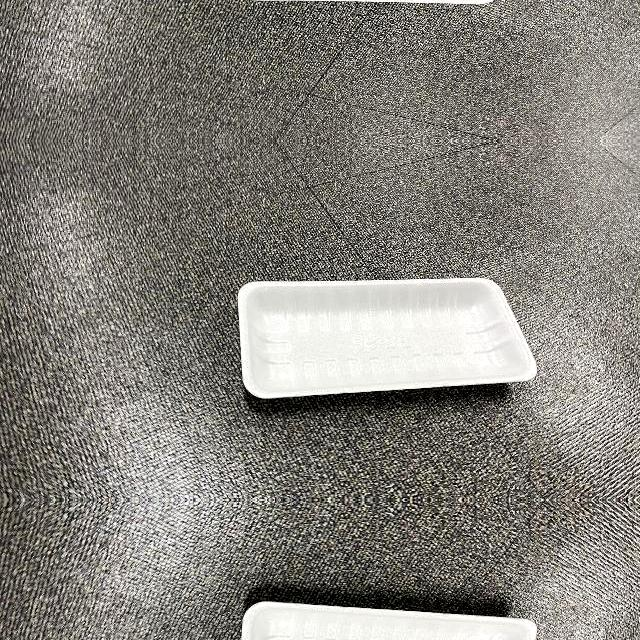Styrofoam: (238, 277, 537, 398), (240, 277, 538, 397), (242, 600, 537, 640), (239, 601, 538, 640)
